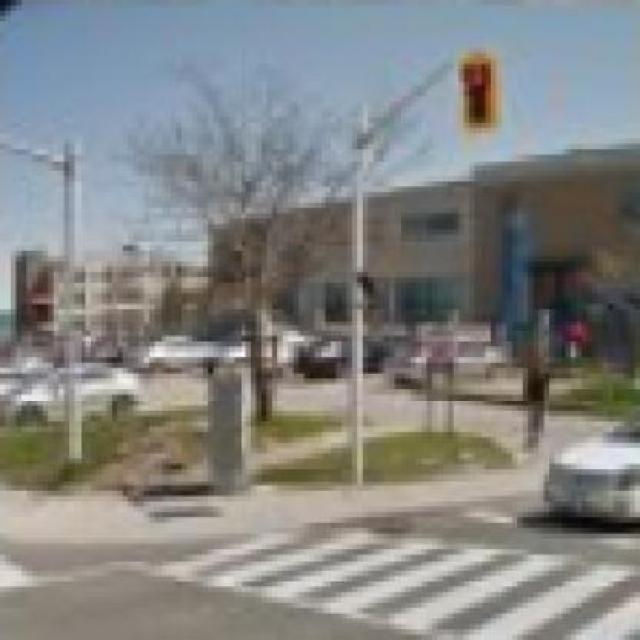crosswalk: (167, 522, 640, 637)
